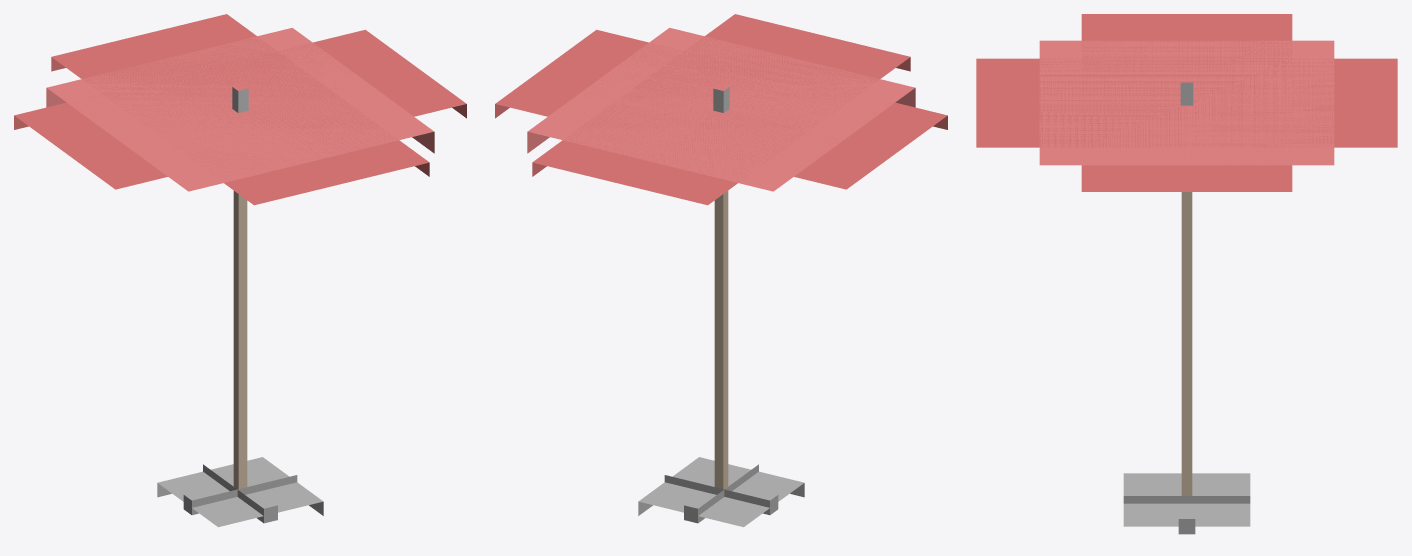
File: umbrella.glb
The picture shows the model from 3 angles, left to right: view 1: azimuth 30°, elevation 25°; view 2: azimuth 150°, elevation 25°; view 3: azimuth 270°, elevation 25°; orthographic projection. The views are drawn at different scales.
Bounding box in the file's own units: 2 × 2.28 × 2.
